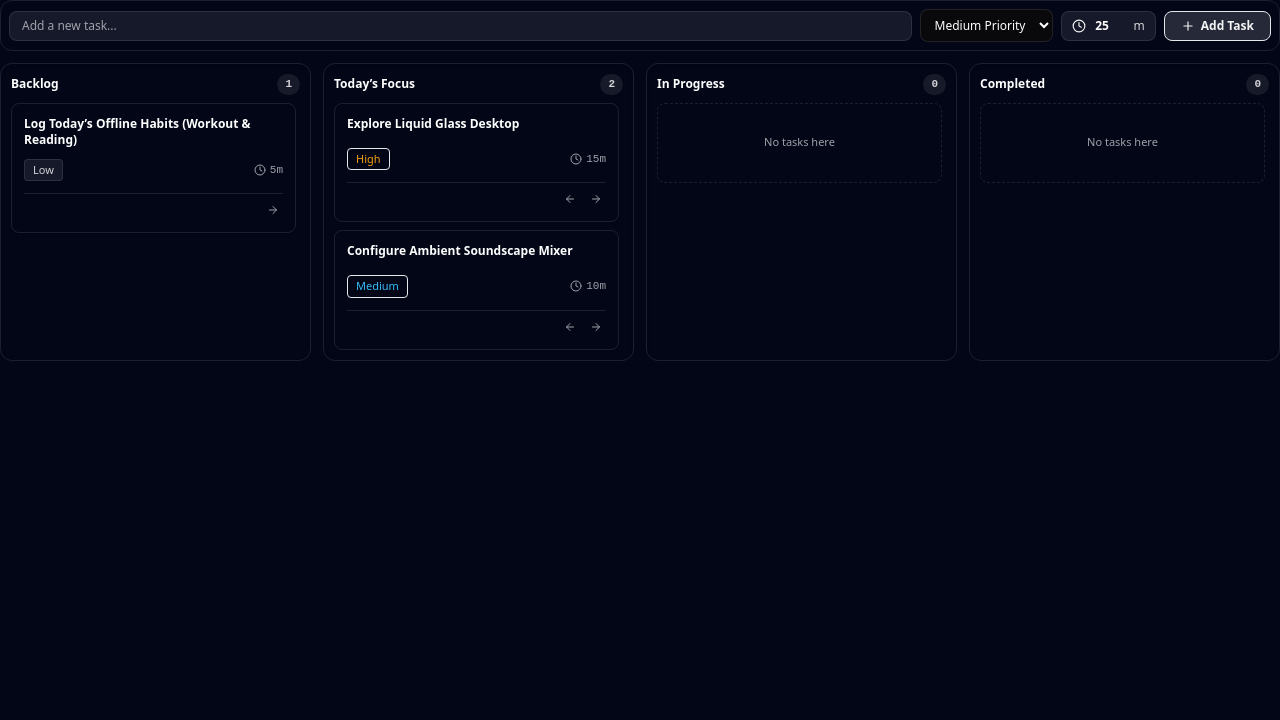
Test case: Productivity Suite › renders TasksApp and adds a new task
This screenshot has width=1280, height=720.
Expected: the text "Today’s Focus" is shown, [334, 76, 415, 92]
Type "Write unit tests" into the field with placeholder "Add a new task..." at [460, 26], box [9, 10, 912, 40]
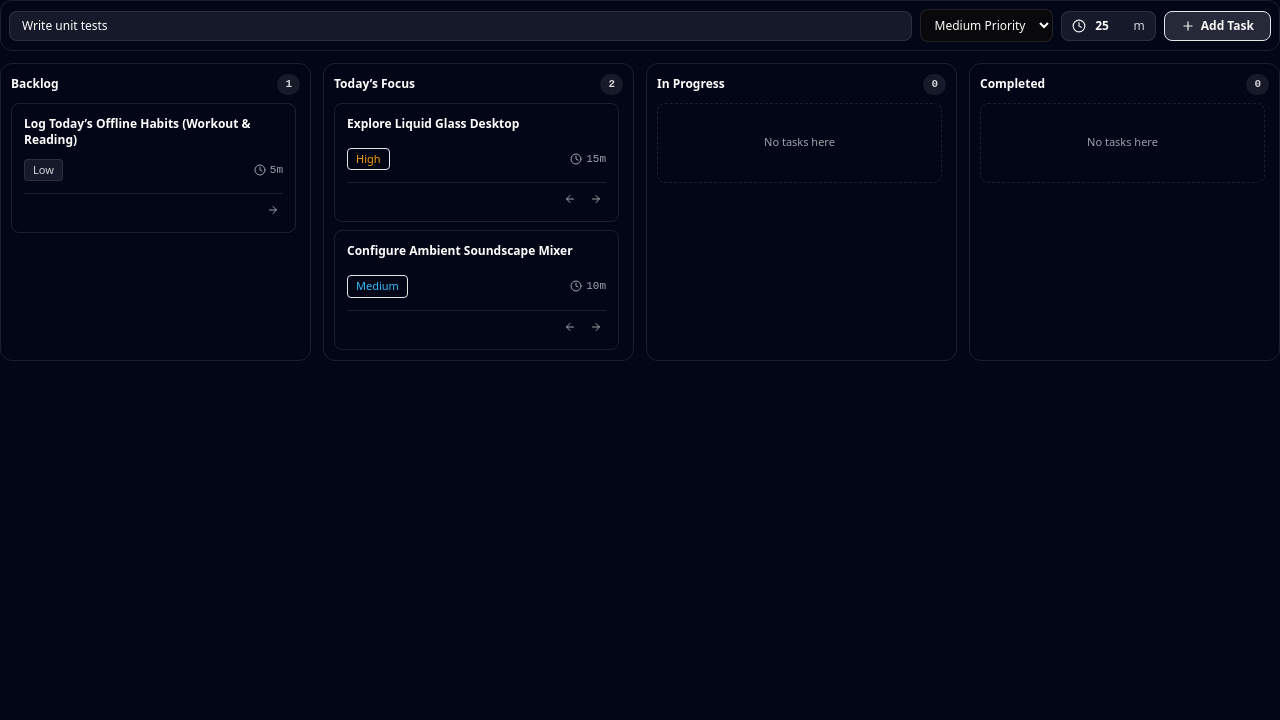
Click the button "Add Task" at [1217, 26], box [1164, 10, 1271, 40]
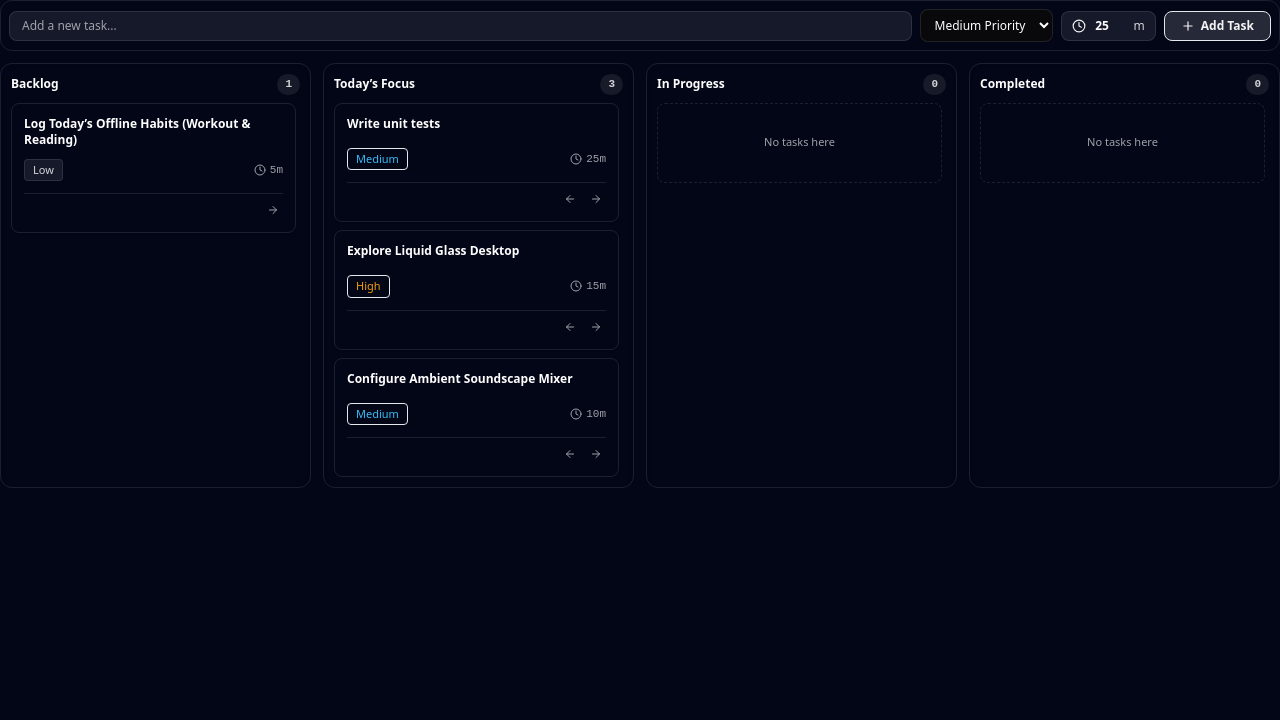
Expected: the text "Write unit tests" is shown, [347, 116, 440, 132]
